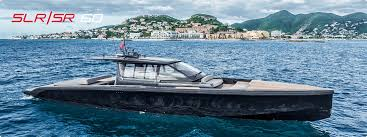boat: (24, 35, 334, 124)
